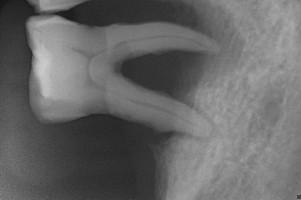Dental Caries: (120, 0, 242, 105)
